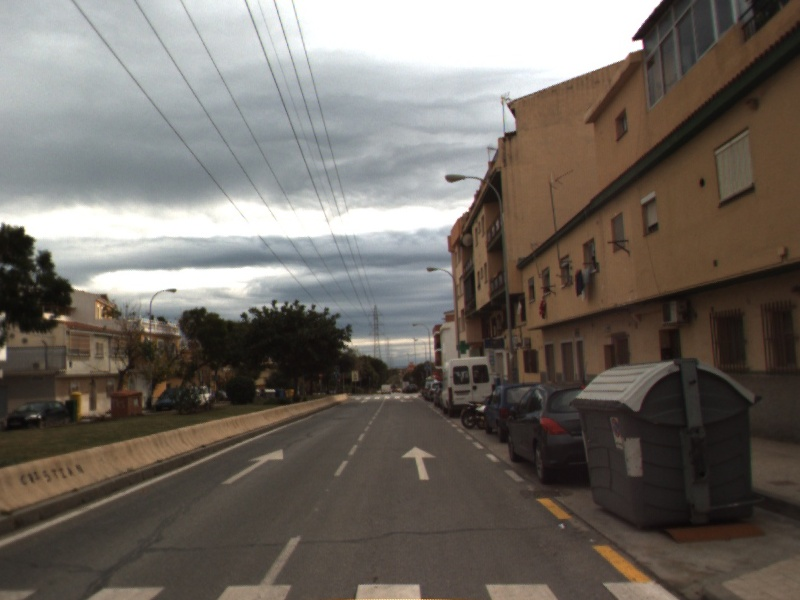STRAIGHT: (219, 447, 285, 486), (399, 444, 438, 482)
